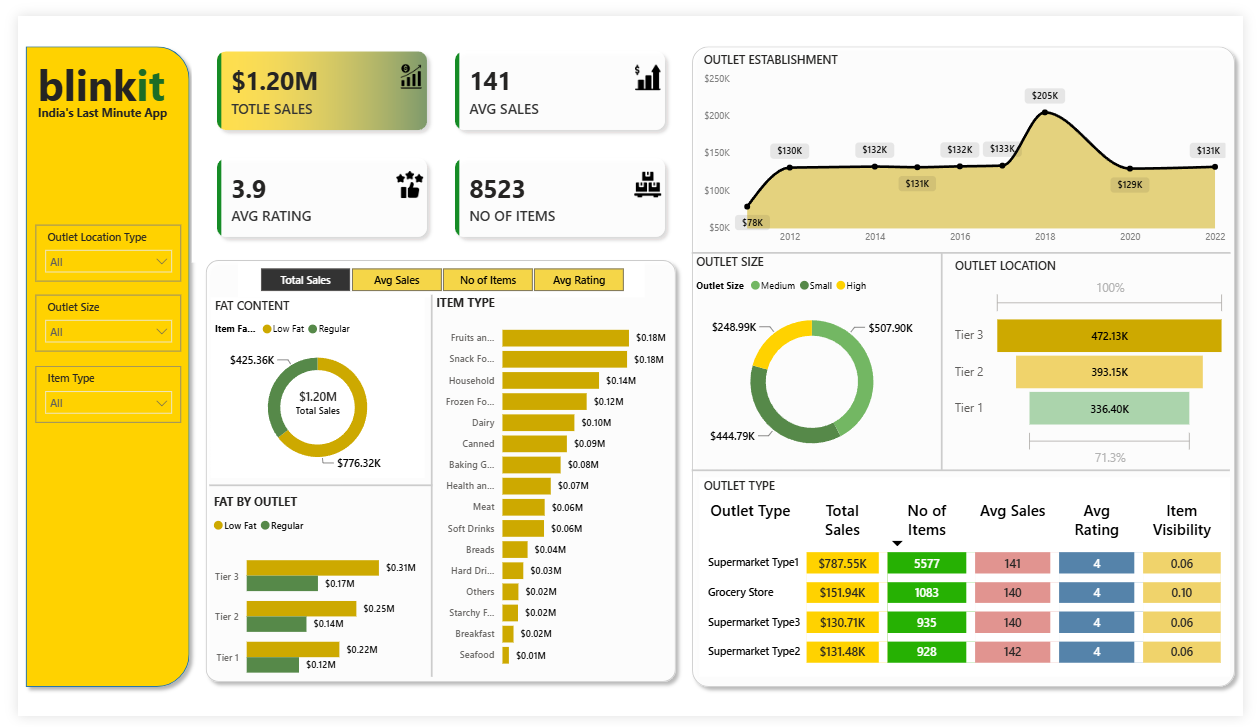

The page's visual inventory and layout, read from the dashboard file:
{"tool":"powerbi","page":{"name":"Page 1","canvas":[1400,800],"ordinal":0},"visuals":[{"type":"shape","box":[0,25,205,750],"z":0},{"type":"textbox","box":[13.3,40,164.7,80],"z":1000},{"type":"textbox","box":[13,95,167,33],"z":2000},{"type":"cardVisual","fields":{"Data":["BlinkIT Grocery Data.Total Sales","BlinkIT Grocery Data.Avg Sales","BlinkIT Grocery Data.Avg Rating","BlinkIT Grocery Data.No of Items"]},"box":[198.3,11.7,571.7,270],"z":3000},{"type":"shape","box":[205,270,555,500],"z":4000},{"type":"donutChart","title":"FAT CONTENT","fields":{"Y":["BlinkIT Grocery Data.Total Sales"],"Category":["BlinkIT Grocery Data.Item Fat Content"]},"box":[220,321.7,245,206.7],"z":5000},{"type":"slicer","fields":{"Values":["Metrics.Metrics"]},"box":[251.7,281.7,465,40],"z":6000},{"type":"cardVisual","fields":{"Data":["BlinkIT Grocery Data.Total Sales"]},"box":[286.7,400,111.7,83.3],"z":7000},{"type":"clusteredBarChart","title":"FAT BY OUTLET","fields":{"Y":["BlinkIT Grocery Data.Total Sales"],"Category":["BlinkIT Grocery Data.Outlet Location Type"],"Series":["BlinkIT Grocery Data.Item Fat Content"]},"box":[218.3,545,245,230],"z":8000},{"type":"shape","box":[218.3,526.7,255,18.3],"z":9000},{"type":"shape","box":[463.3,318.3,20,436.7],"z":10000},{"type":"barChart","title":"ITEM TYPE","fields":{"Y":["BlinkIT Grocery Data.Total Sales"],"Category":["BlinkIT Grocery Data.Item Type"]},"box":[473.3,318.3,273.3,436.7],"z":11000},{"type":"shape","box":[761.7,25,638.3,750],"z":12000},{"type":"lineChart","title":"OUTLET ESTABLISHMENT","fields":{"Y":["BlinkIT Grocery Data.Total Sales"],"Category":["BlinkIT Grocery Data.Outlet Establishment Year"]},"box":[778.3,40,606.7,230],"z":13000},{"type":"shape","box":[770,261.4,615.7,18.6],"z":14000},{"type":"donutChart","title":"OUTLET SIZE","fields":{"Y":["BlinkIT Grocery Data.Total Sales"],"Category":["BlinkIT Grocery Data.Outlet Size"]},"box":[770,271.7,275,248.3],"z":15000},{"type":"shape","box":[1045,270,20,250],"z":16000},{"type":"funnel","title":"OUTLET LOCATION","fields":{"Y":["Sum(BlinkIT Grocery Data.Sales)"],"Category":["BlinkIT Grocery Data.Outlet Location Type"]},"box":[1065,275,320,245],"z":17000},{"type":"shape","box":[770,510,615,18.3],"z":18000},{"type":"pivotTable","title":"OUTLET TYPE","fields":{"Rows":["BlinkIT Grocery Data.Outlet Type"],"Values":["BlinkIT Grocery Data.Total Sales","BlinkIT Grocery Data.No of Items","BlinkIT Grocery Data.Avg Sales","BlinkIT Grocery Data.Avg Rating","Avg(BlinkIT Grocery Data.Item Visibility)"]},"box":[778.3,526.7,606.7,228.3],"z":19000},{"type":"slicer","fields":{"Values":["BlinkIT Grocery Data.Outlet Location Type"]},"box":[20,238.3,166.7,65],"z":20000},{"type":"slicer","fields":{"Values":["BlinkIT Grocery Data.Outlet Size"]},"box":[20,318.3,166.7,65],"z":21000},{"type":"slicer","fields":{"Values":["BlinkIT Grocery Data.Item Type"]},"box":[20,400,166.7,65],"z":22000}]}

Visuals, with their boxes in screenshot pixels (x1, y1, x2, y2), scaled from the page's 1400x800 canvas onto the 1257x727 screenshot:
shape: 0/23/184/704
textbox: 12/36/160/109
textbox: 12/86/162/116
cardVisual - BlinkIT Grocery Data.Total Sales x BlinkIT Grocery Data.Avg Sales: 178/11/691/256
shape: 184/245/682/700
"FAT CONTENT" donutChart: 198/292/418/480
slicer - Metrics.Metrics: 226/256/643/292
cardVisual - BlinkIT Grocery Data.Total Sales: 257/364/358/439
"FAT BY OUTLET" clusteredBarChart: 196/495/416/704
shape: 196/479/425/495
shape: 416/289/434/686
"ITEM TYPE" barChart: 425/289/670/686
shape: 684/23/1256/704
"OUTLET ESTABLISHMENT" lineChart: 699/36/1244/245
shape: 691/238/1244/254
"OUTLET SIZE" donutChart: 691/247/938/473
shape: 938/245/956/473
"OUTLET LOCATION" funnel: 956/250/1244/473
shape: 691/463/1244/480
"OUTLET TYPE" pivotTable: 699/479/1244/686
slicer - BlinkIT Grocery Data.Outlet Location Type: 18/217/168/276
slicer - BlinkIT Grocery Data.Outlet Size: 18/289/168/348
slicer - BlinkIT Grocery Data.Item Type: 18/364/168/423
